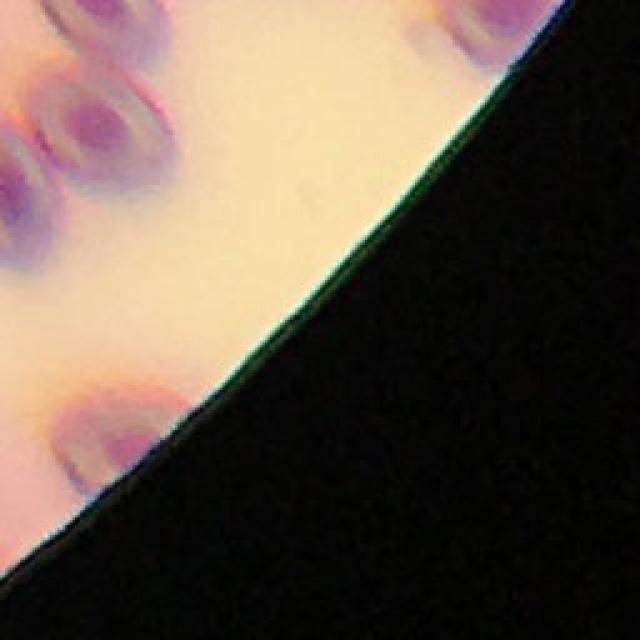RBC: (23, 61, 175, 188), (49, 381, 180, 503), (37, 0, 172, 71), (0, 135, 65, 277), (434, 0, 560, 71)
